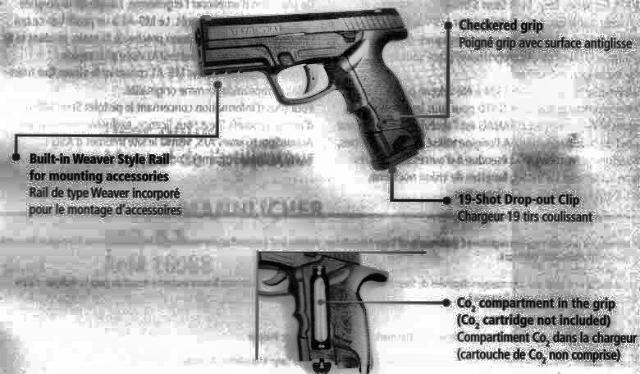pistol: (193, 6, 424, 170)
